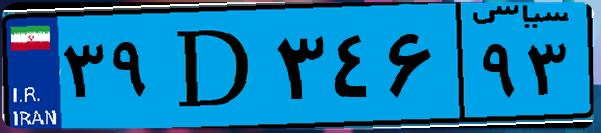3: (270, 28, 330, 110), (57, 26, 110, 100), (525, 38, 570, 115)
4: (330, 28, 385, 110)
6: (385, 28, 445, 110)
9: (475, 38, 525, 113), (110, 28, 158, 98)
D: (158, 12, 270, 120)
